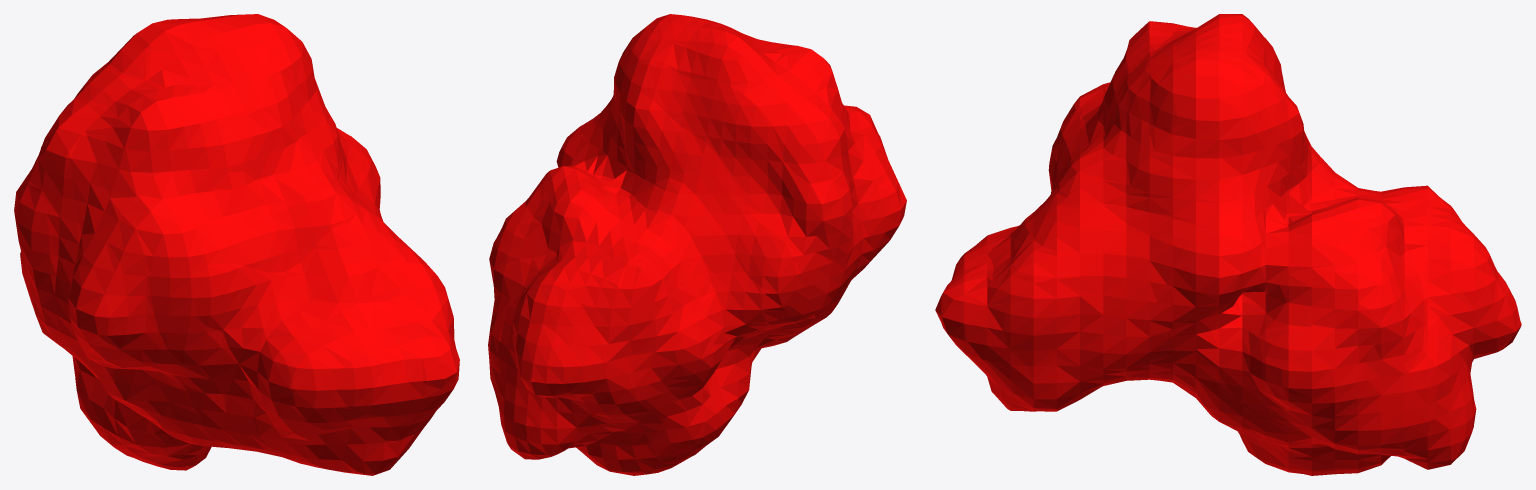
File: galK_coarse.dae
3 views of the same model, side by side, from view 1: azimuth 30°, elevation 25°; view 2: azimuth 150°, elevation 25°; view 3: azimuth 270°, elevation 25° (orthographic). The views are drawn at different scales.
Visible parts, largest first — view 1: galK; view 2: galK; view 3: galK.
Boxes of the visible parts, bbox=[...] form: galK: bbox=[14, 14, 459, 475]; galK: bbox=[488, 14, 906, 475]; galK: bbox=[935, 14, 1521, 475].
Bounding box in the file's own units: 49.52 × 62.54 × 75.91.
